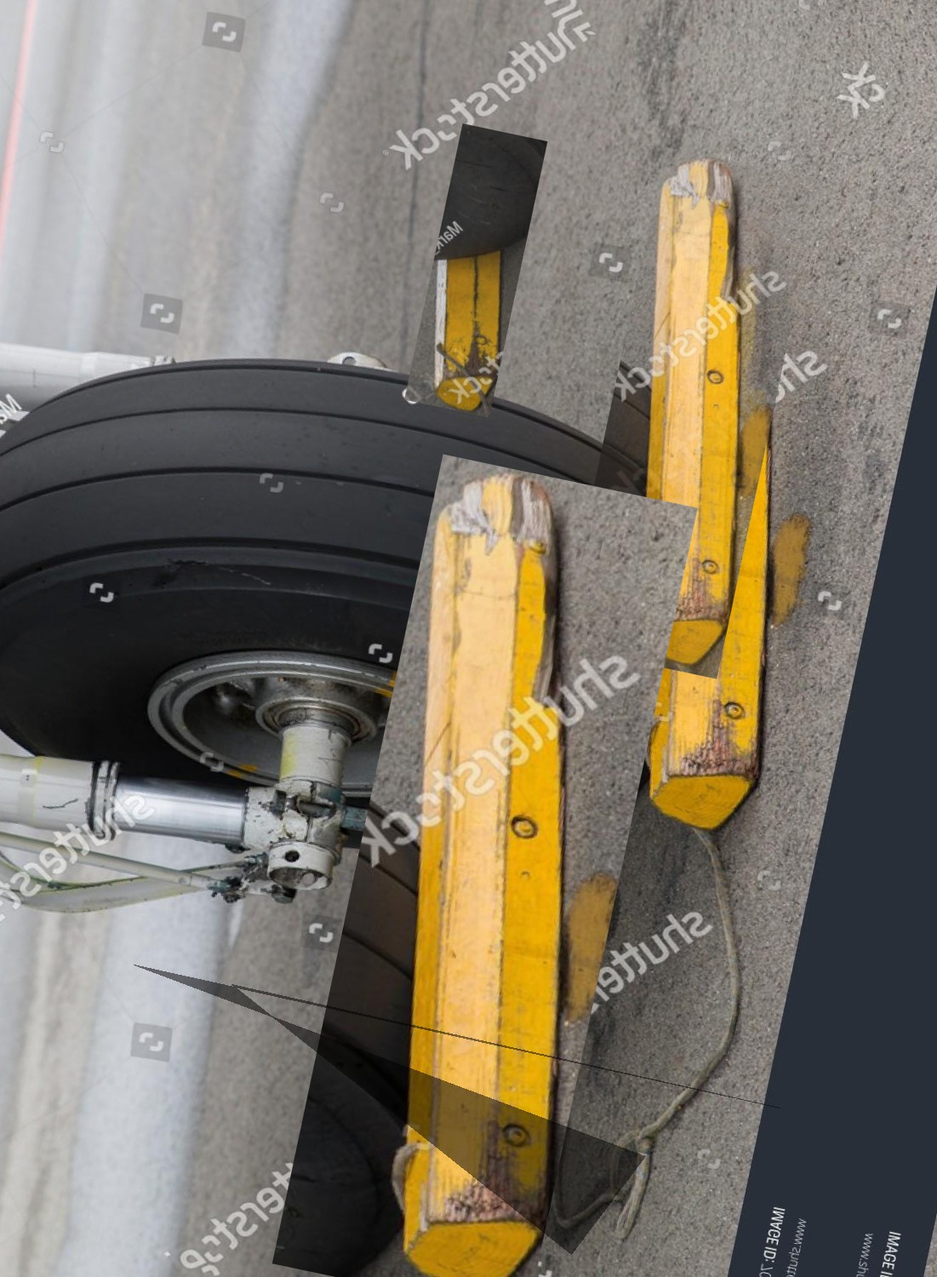chock: (272, 454, 698, 1277), (551, 200, 871, 848), (560, 147, 822, 679), (429, 643, 648, 1091), (404, 123, 548, 418)
wheel: (0, 283, 725, 882)
